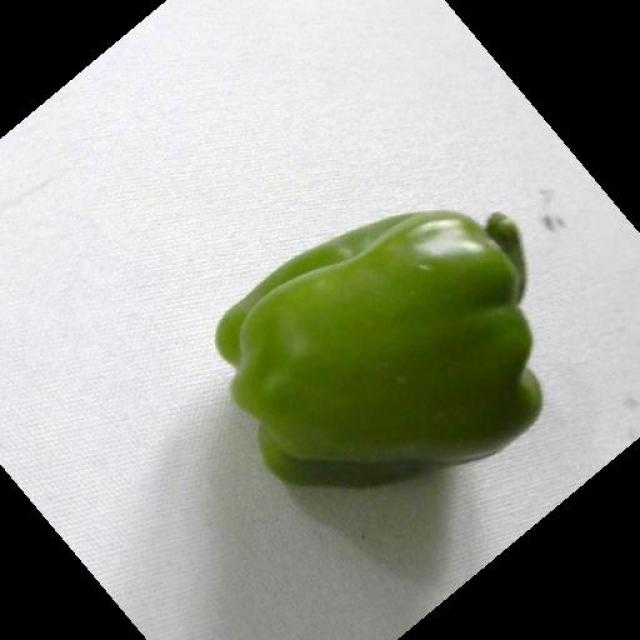Fresh_Capsicum: (240, 203, 546, 441)
